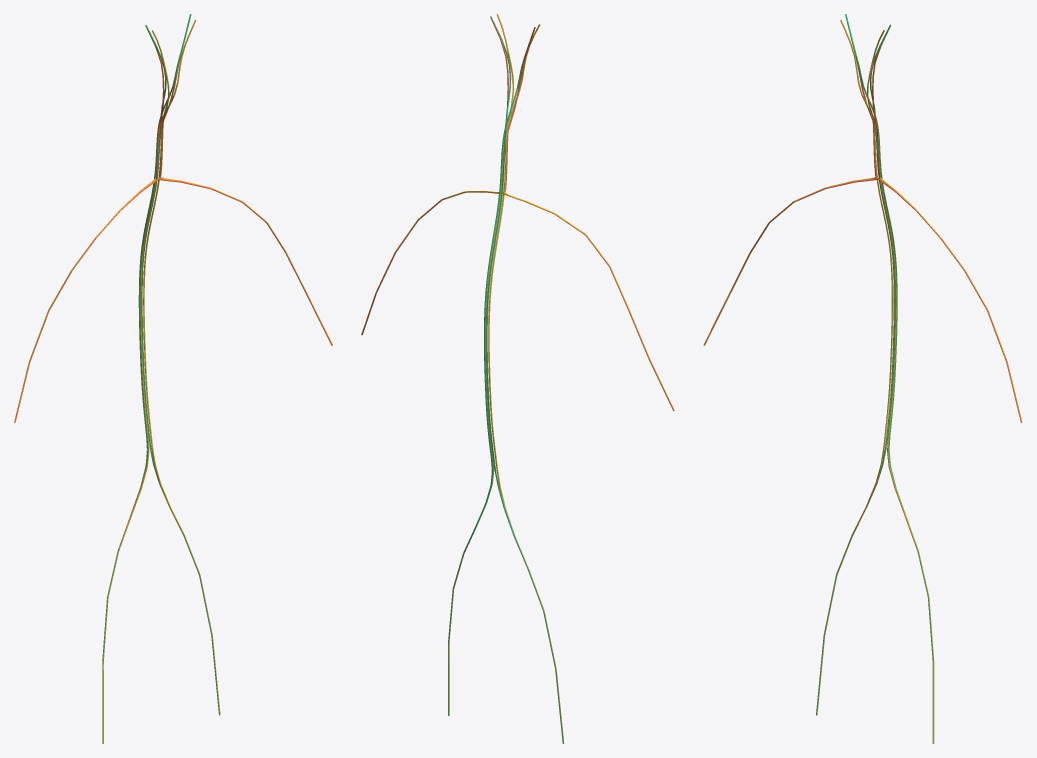
File: bodyparts3d-brain-tracts.glb
3 views of the same model, side by side, from view 1: azimuth 30°, elevation 25°; view 2: azimuth 150°, elevation 25°; view 3: azimuth 330°, elevation 25° (orthographic).
Visible parts, largest first — view 1: cst, dcml, stt; view 2: cst, dcml, stt; view 3: cst, dcml, stt.
Boxes of the visible parts, x1,y1,x2,y2 form: cst: [14, 20, 332, 743]; dcml: [102, 14, 220, 743]; stt: [14, 14, 332, 422]; cst: [361, 14, 674, 743]; dcml: [448, 16, 564, 743]; stt: [361, 16, 674, 410]; cst: [704, 19, 1021, 743]; dcml: [816, 14, 933, 743]; stt: [704, 14, 1022, 422].
Bounding box in the file's own units: 0.5462 × 1.17 × 0.1012.
